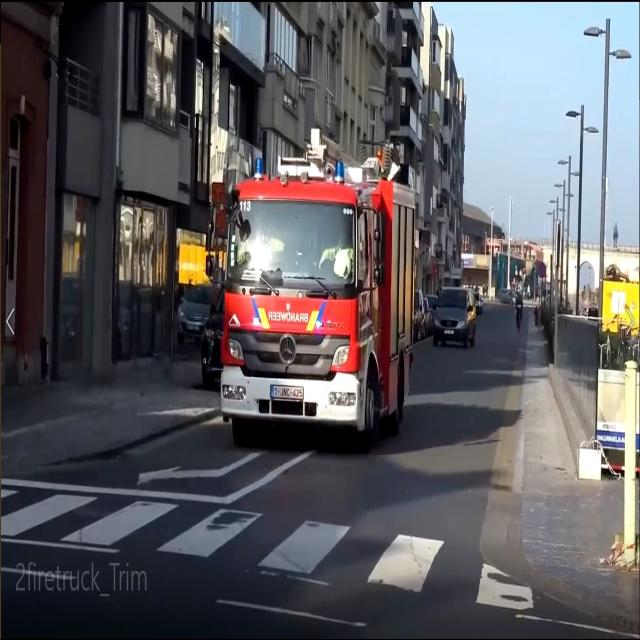emergency: (222, 164, 427, 452)
